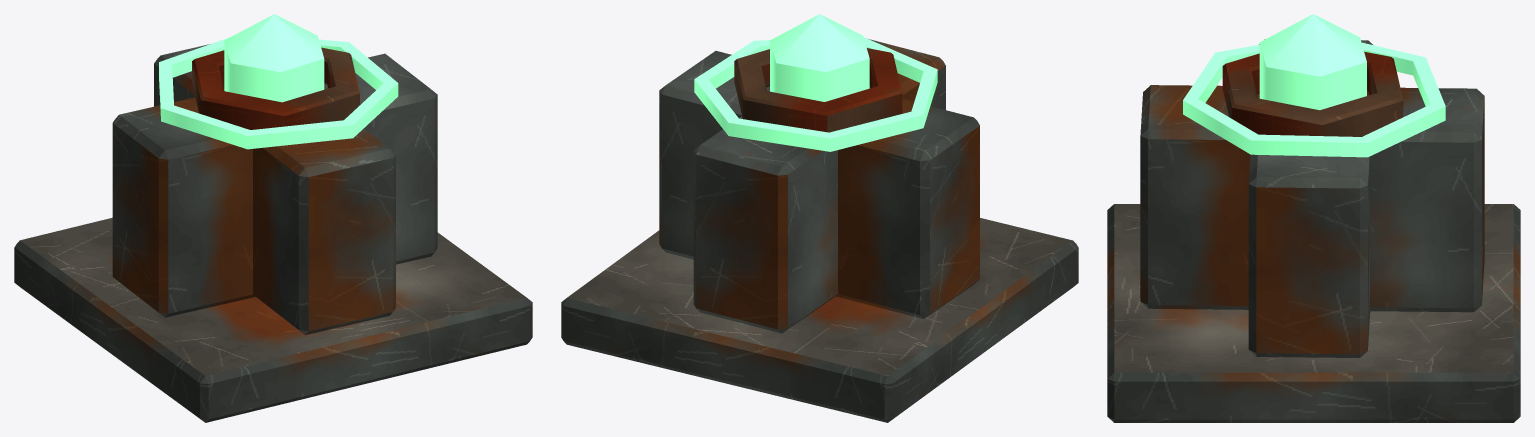
File: R4X_RepairPulse_LOD1.glb
The picture shows the model from 3 angles, left to right: view 1: azimuth 30°, elevation 25°; view 2: azimuth 150°, elevation 25°; view 3: azimuth 270°, elevation 25°; orthographic projection. The views are drawn at different scales.
Parts seen in each view (by area): view 1: R4X_RepairPulse_LOD1; view 2: R4X_RepairPulse_LOD1; view 3: R4X_RepairPulse_LOD1.
Boxes of the visible parts, x1,y1,x2,y2 form: R4X_RepairPulse_LOD1: (14,14,532,422); R4X_RepairPulse_LOD1: (561,14,1078,422); R4X_RepairPulse_LOD1: (1107,14,1520,422).
Size of the model in its own units: 0.52 by 0.4512 by 0.52.
Materials: 4 (3 with a texture image).
